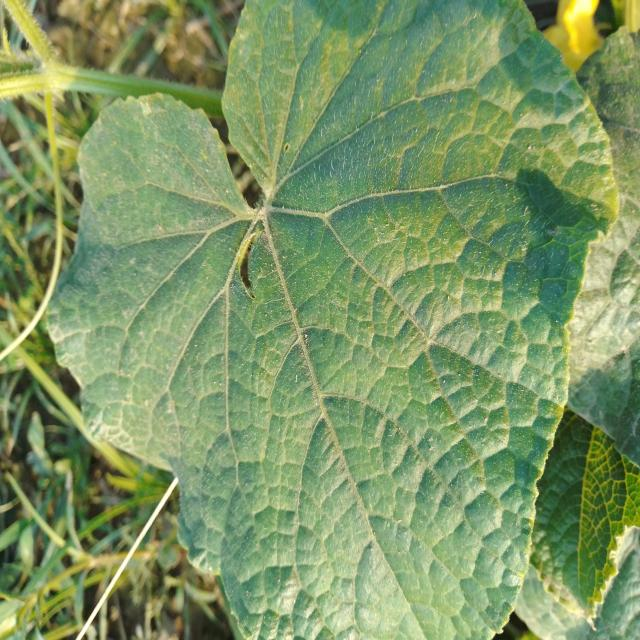cucumber_healthy: (44, 0, 623, 640), (549, 19, 640, 468)
